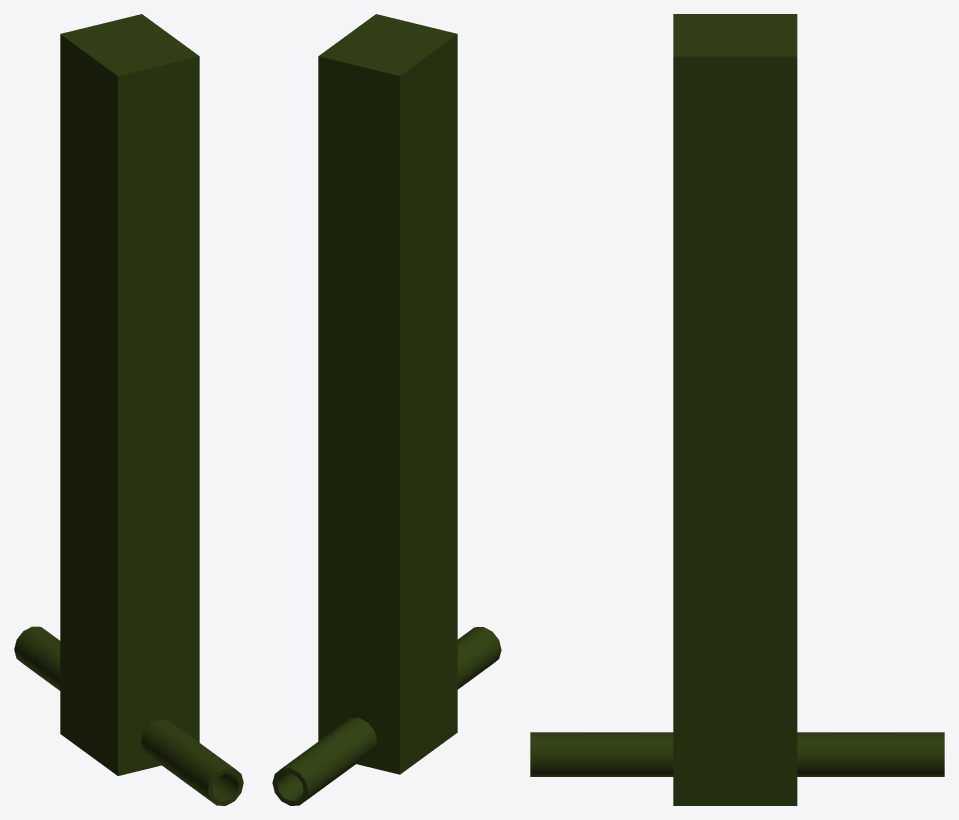
File: OutLet.fbx
The picture shows the model from 3 angles, left to right: view 1: azimuth 30°, elevation 25°; view 2: azimuth 150°, elevation 25°; view 3: azimuth 270°, elevation 25°; orthographic projection. The views are drawn at different scales.
Parts seen in each view (by area): view 1: Outlet, Outlet_Side_Wall; view 2: Outlet, Outlet_Side_Wall; view 3: Outlet.
Part boxes in pixels (x1,y1,x2,y2): Outlet: (14,14,243,805); Outlet_Side_Wall: (60,34,117,775); Outlet: (272,14,501,805); Outlet_Side_Wall: (400,34,457,774); Outlet: (530,14,944,805).
Size of the model in its own units: 22.63 by 185 by 92.84.
